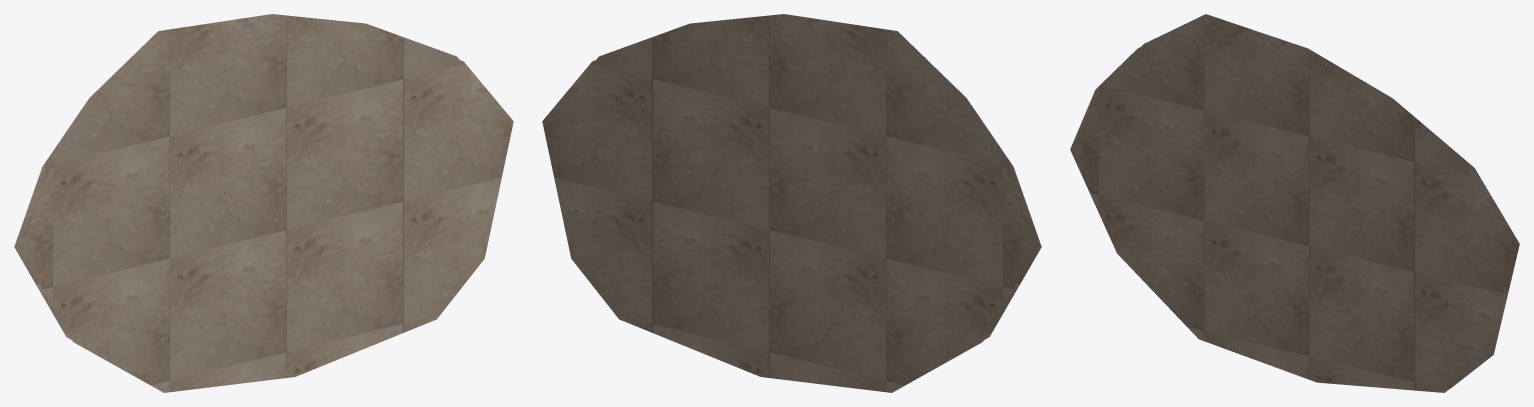
Rendered from floor_13.obj.
The picture shows the model from 3 angles, left to right: view 1: azimuth 30°, elevation 25°; view 2: azimuth 150°, elevation 25°; view 3: azimuth 330°, elevation 25°; orthographic projection. The views are drawn at different scales.
Parts seen in each view (by area): view 1: floor_13; view 2: floor_13; view 3: floor_13.
Boxes of the visible parts, x1=… form: floor_13: x1=14, y1=14, x2=513, y2=392; floor_13: x1=542, y1=14, x2=1041, y2=392; floor_13: x1=1070, y1=14, x2=1519, y2=392.
Size of the model in its own units: 4.22 by 3.05 by 0.1.
Materials: 1 (1 with a texture image).
